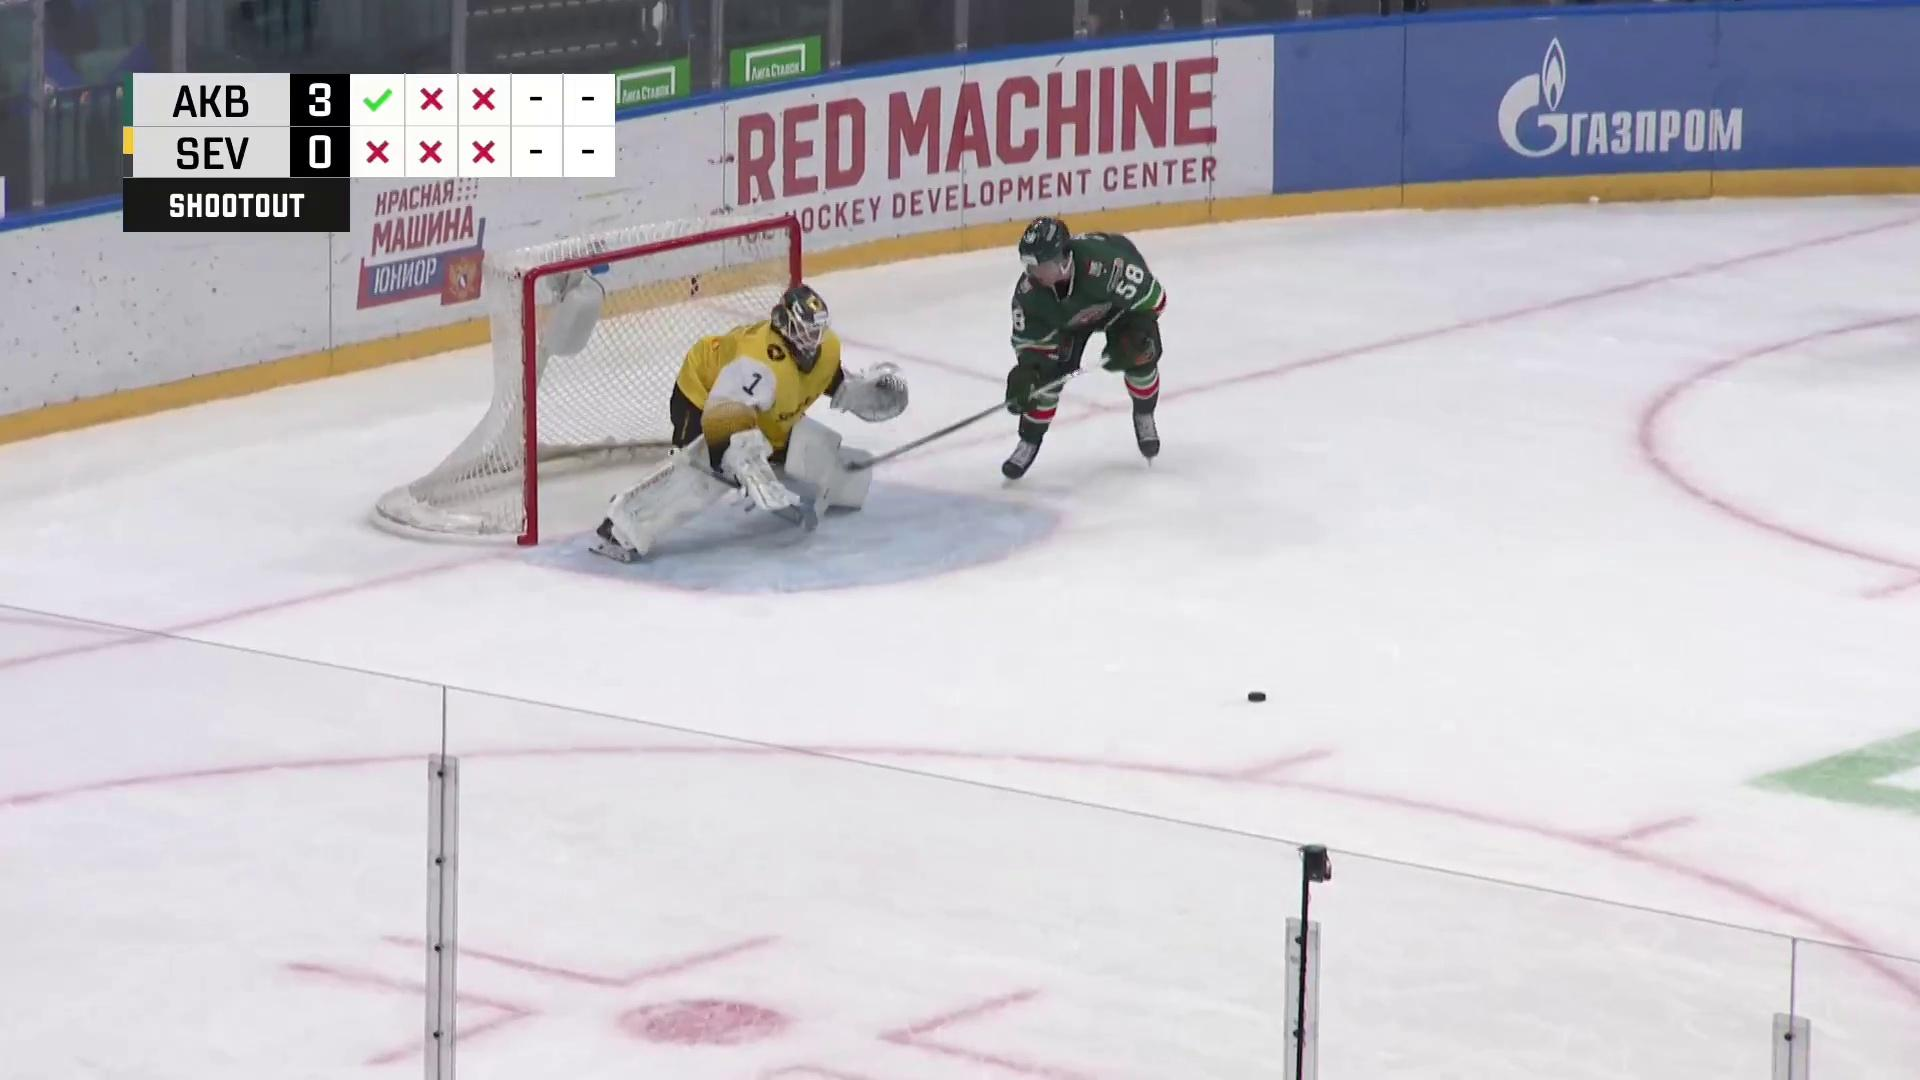ball: (1245, 690, 1269, 703)
